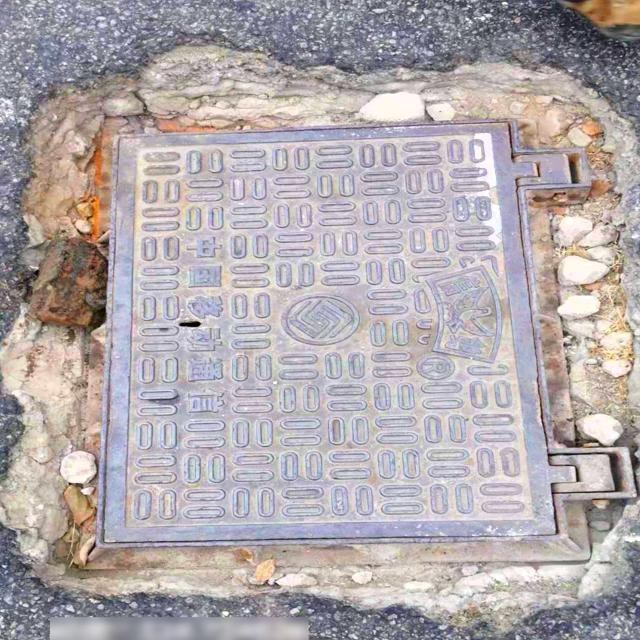circle: (32, 84, 640, 597)
